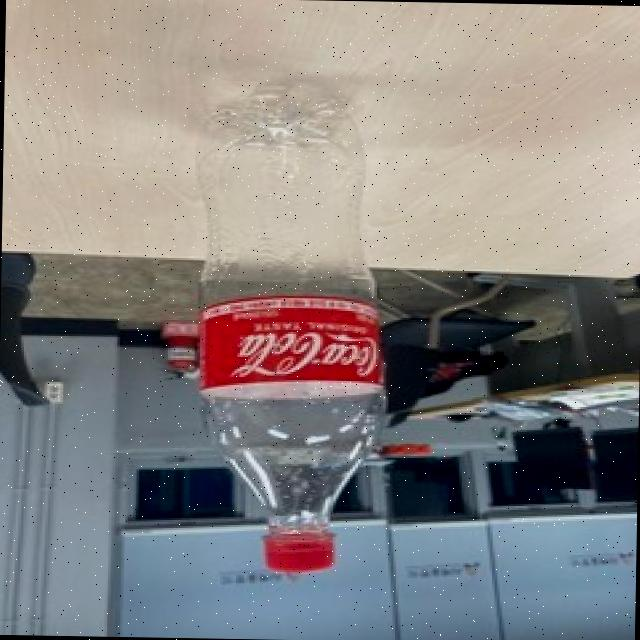bottle: (181, 76, 398, 584)
cap: (266, 537, 336, 572)
label: (170, 298, 410, 397)
